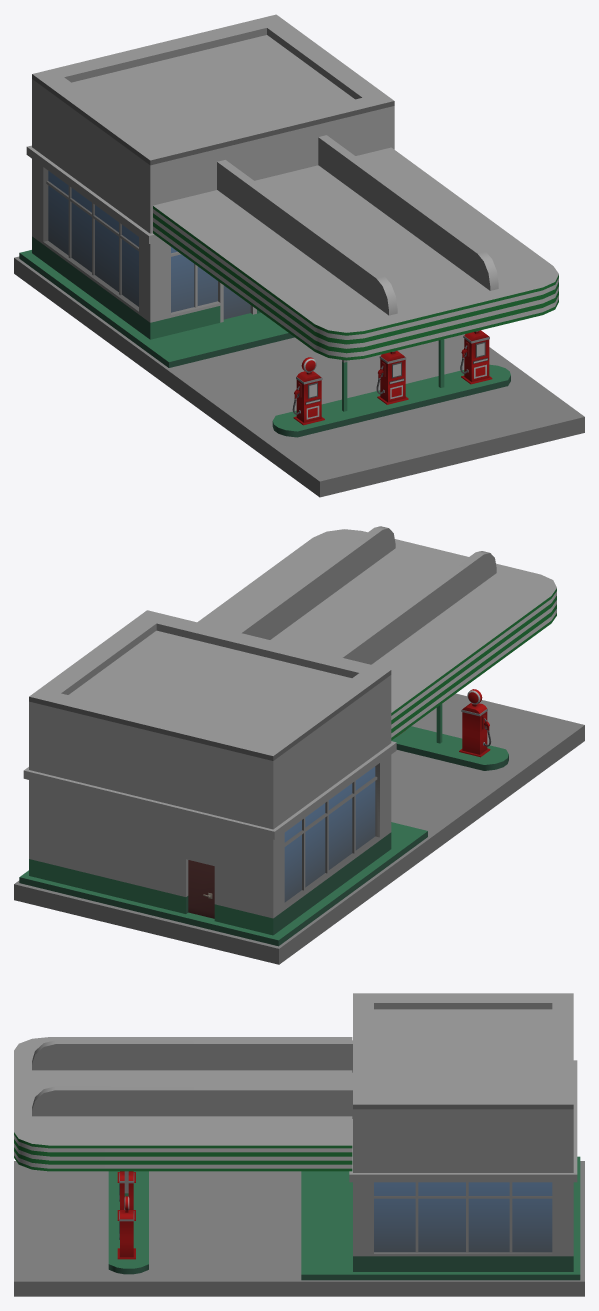
The picture shows the model from 3 angles, top to bottom: view 1: azimuth 30°, elevation 25°; view 2: azimuth 150°, elevation 25°; view 3: azimuth 270°, elevation 25°; orthographic projection. The views are drawn at different scales.
Parts seen in each view (by area): view 1: base.225; view 2: base.225; view 3: base.225.
Boxes of the visible parts, x1=… form: base.225: x1=14, y1=14, x2=584, y2=497; base.225: x1=14, y1=526, x2=584, y2=964; base.225: x1=14, y1=993, x2=584, y2=1296.
Bounding box in the file's own units: 0.2503 × 0.1814 × 0.5.
